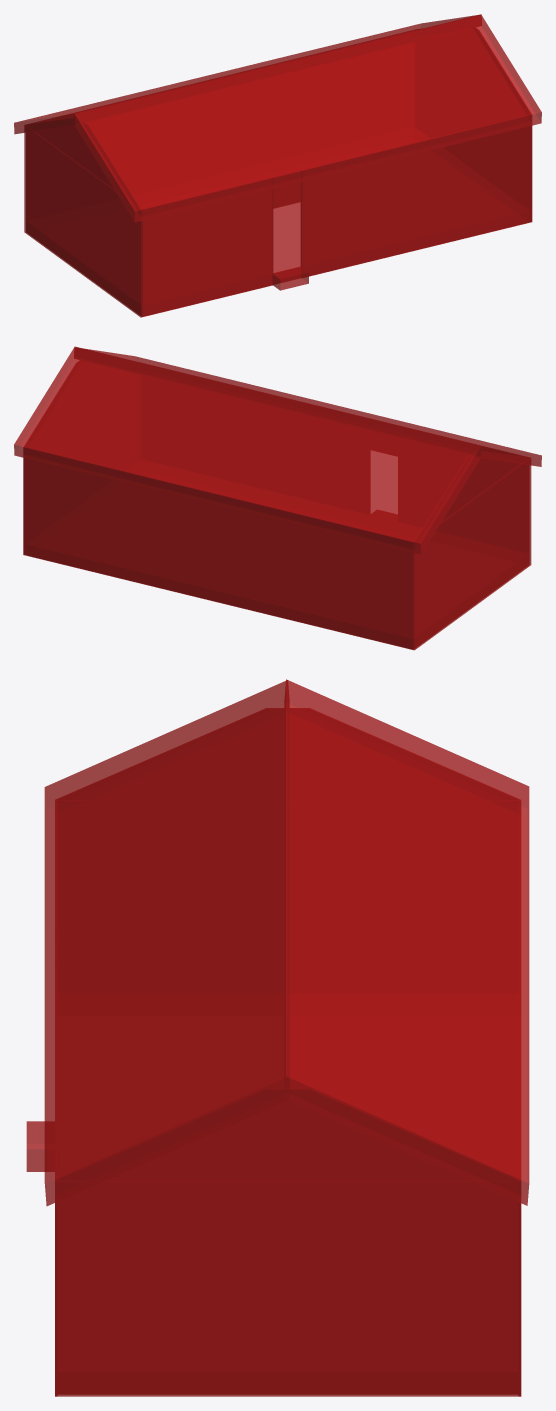
Rendered from SM_Bld_Warehouse_01_Collision.fbx.
3 renders of one model, top to bottom at view 1: azimuth 30°, elevation 25°; view 2: azimuth 150°, elevation 25°; view 3: azimuth 270°, elevation 25°, orthographic. The views are drawn at different scales.
Visible parts, largest first — view 1: SM_Bld_Warehouse_01_Collision; view 2: SM_Bld_Warehouse_01_Collision; view 3: SM_Bld_Warehouse_01_Collision.
Boxes of the visible parts, x1=… form: SM_Bld_Warehouse_01_Collision: x1=14, y1=14, x2=541, y2=317; SM_Bld_Warehouse_01_Collision: x1=14, y1=346, x2=541, y2=650; SM_Bld_Warehouse_01_Collision: x1=26, y1=679, x2=529, y2=1396.
Bounding box in the file's own units: 1455 × 560 × 778.
